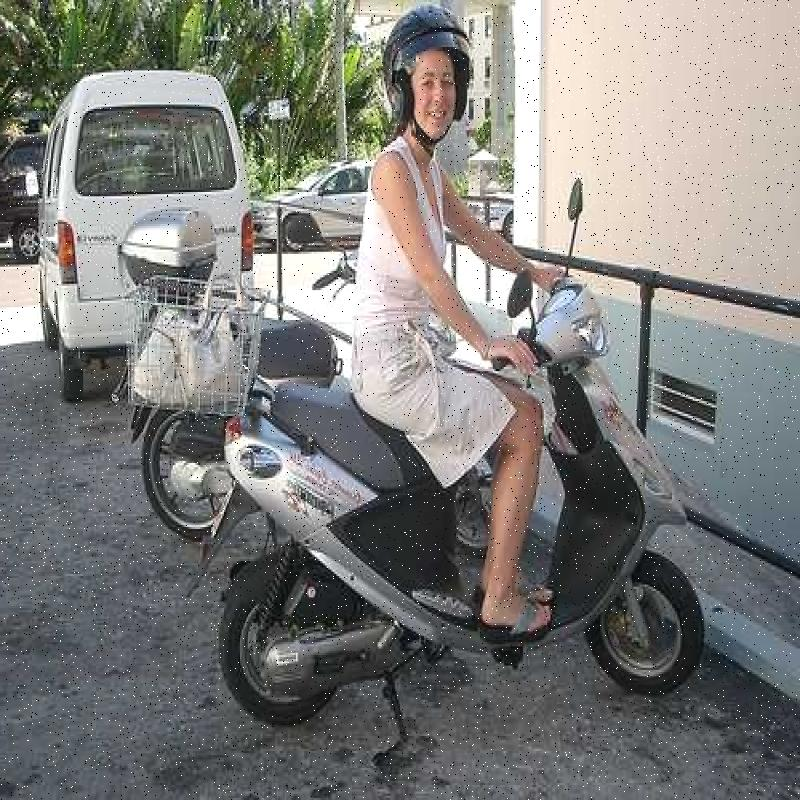bike: (223, 221, 677, 744), (106, 242, 370, 541)
